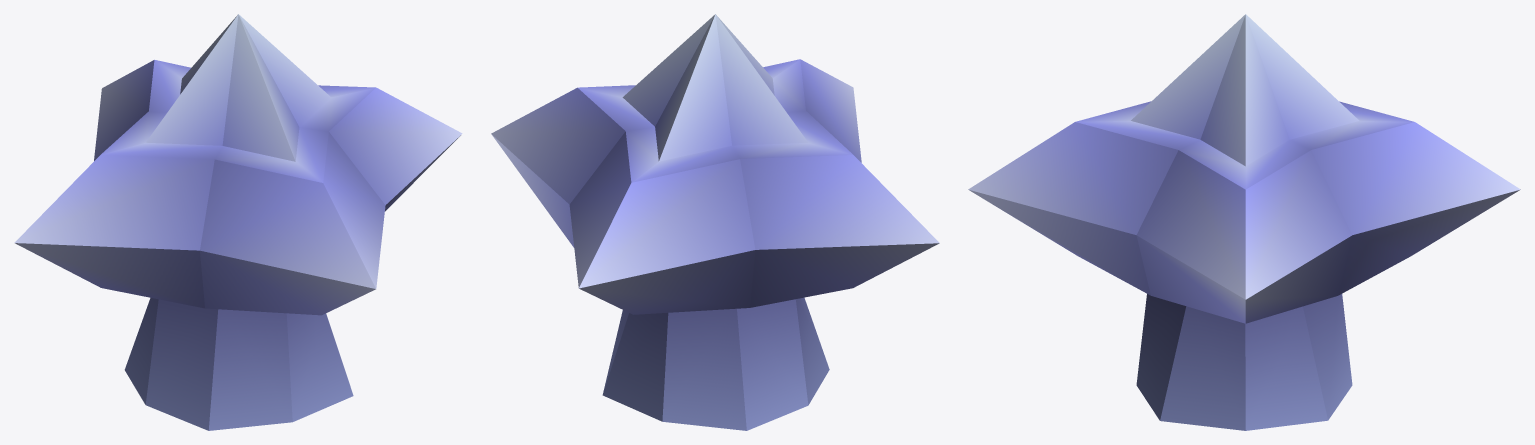
File: vase.fbx
3 views of the same model, side by side, from view 1: azimuth 30°, elevation 25°; view 2: azimuth 150°, elevation 25°; view 3: azimuth 270°, elevation 25° (orthographic).
Parts seen in each view (by area): view 1: Cube; view 2: Cube; view 3: Cube.
Boxes of the visible parts, <box> form: Cube: <box>14,14,462,430</box>; Cube: <box>491,14,939,430</box>; Cube: <box>968,14,1520,430</box>.
Size of the model in its own units: 483 by 379 by 512.
